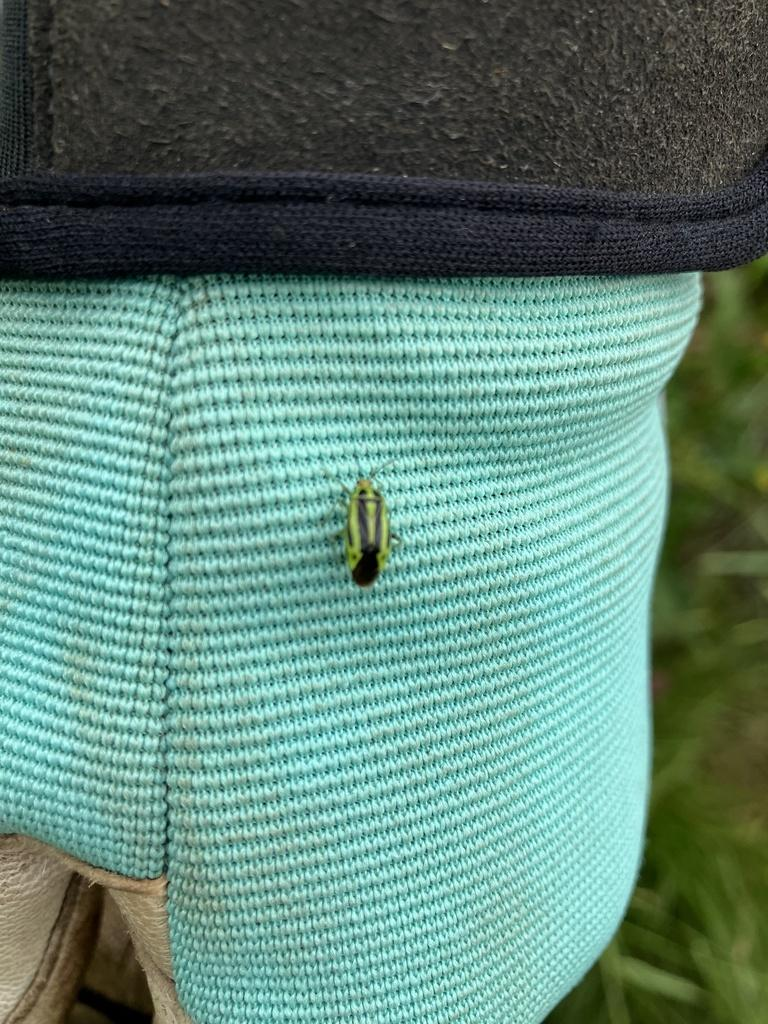plant_bugs: (296, 441, 434, 606)
